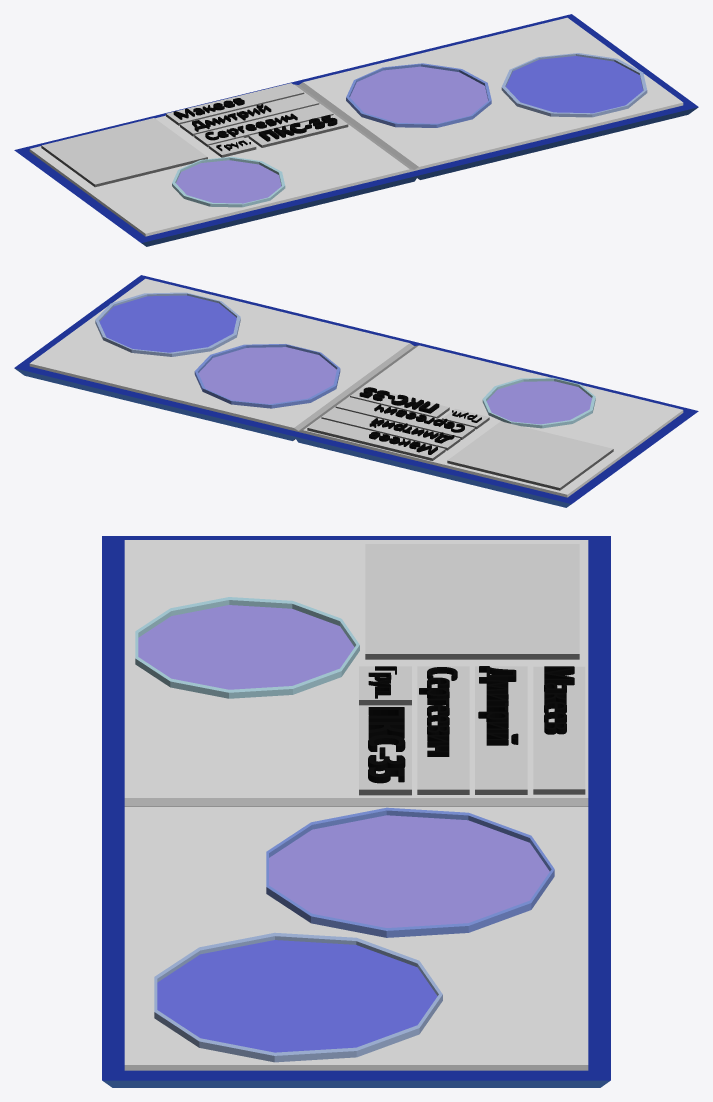
The model's file is Студ билет.fbx.
3 views of the same model, one above another, from view 1: azimuth 30°, elevation 25°; view 2: azimuth 150°, elevation 25°; view 3: azimuth 270°, elevation 25° (orthographic). The views are drawn at different scales.
Visible parts, largest first — view 1: Плоскость, Текст.004, Текст.002, Текст.001, Текст; view 2: Плоскость, Текст.004, Текст.002, Текст.001, Текст; view 3: Плоскость, Текст.004, Текст.001, Текст.002, Текст.
Boxes of the visible parts, x1,y1,x2,y2 form: Плоскость: [14, 14, 698, 246]; Текст.004: [258, 115, 337, 141]; Текст.002: [205, 113, 297, 140]; Текст.001: [192, 104, 271, 131]; Текст: [173, 98, 244, 119]; Плоскость: [14, 275, 698, 507]; Текст.004: [359, 387, 439, 413]; Текст.002: [374, 404, 464, 432]; Текст.001: [369, 418, 454, 443]; Текст: [369, 432, 437, 454]; Плоскость: [102, 536, 610, 1087]; Текст.004: [368, 707, 405, 783]; Текст.001: [478, 666, 518, 745]; Текст.002: [419, 667, 457, 756]; Текст: [544, 666, 574, 734].
Bounding box in the file's own units: 656 × 18.35 × 259.
